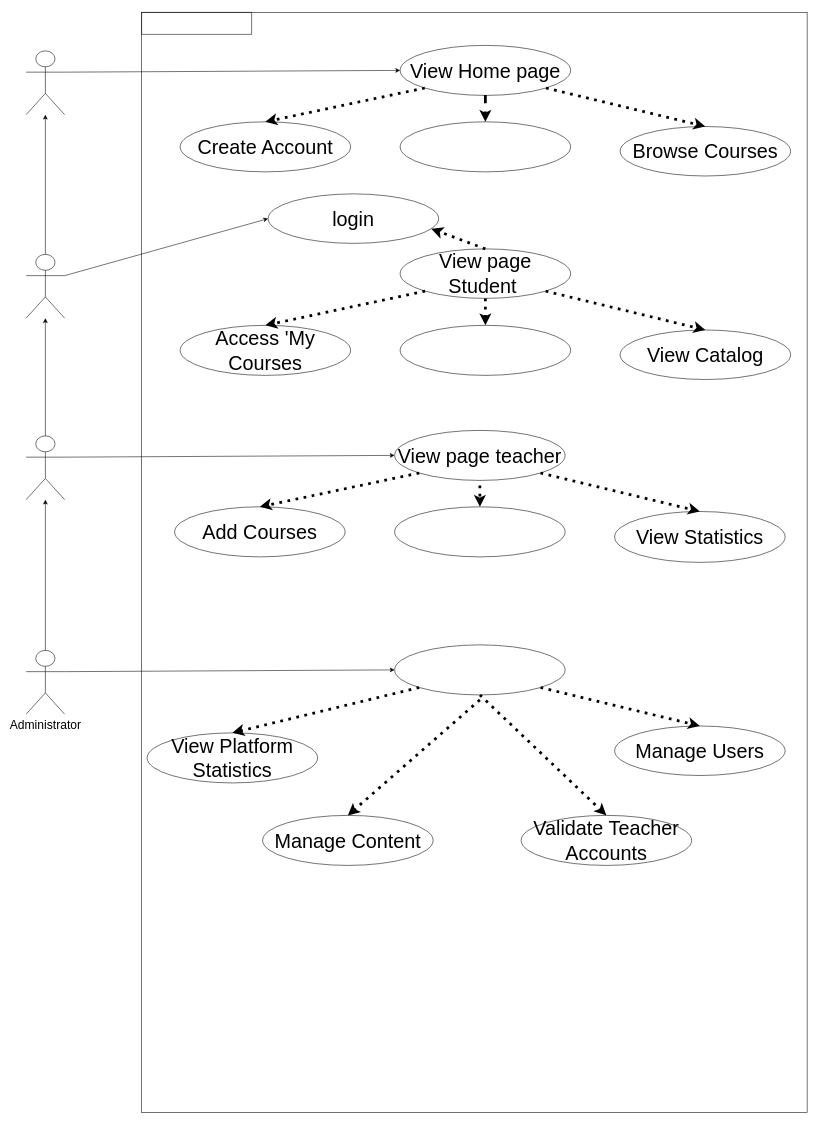
This 817x1122 diagram has some shape labels left out. The centre of each missing label's shape, as x and y in pixels:
"Enroll in Courses" belongs at point 485,350.
"Manage Courses" belongs at point 479,531.
"Search Courses" belongs at point 485,146.
"Student" belongs at point 45,286.
"Teacher" belongs at point 45,467.
"View page admin" belongs at point 479,669.
"Visitor" belongs at point 45,82.
"Youdemy" belongs at point 196,23.
